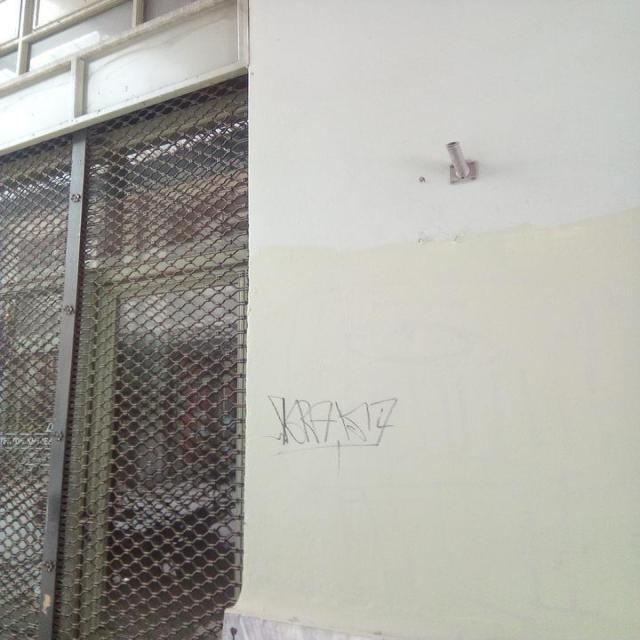nonspitting: (267, 394, 400, 450)
